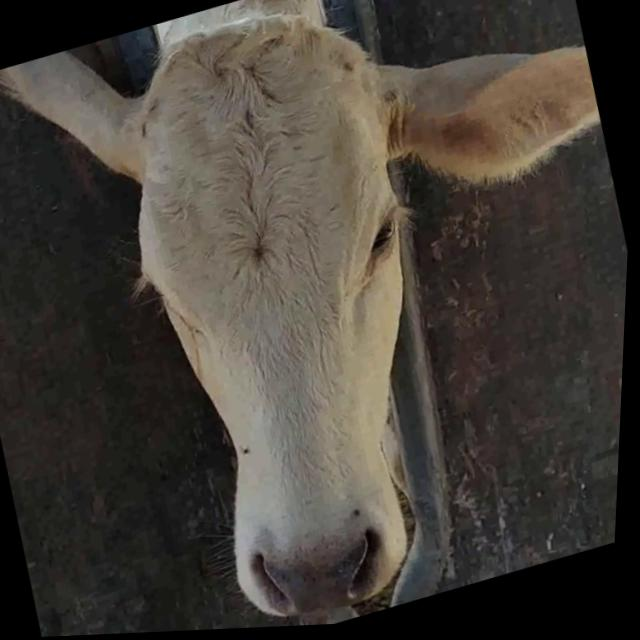cowFace: (76, 0, 497, 637)
